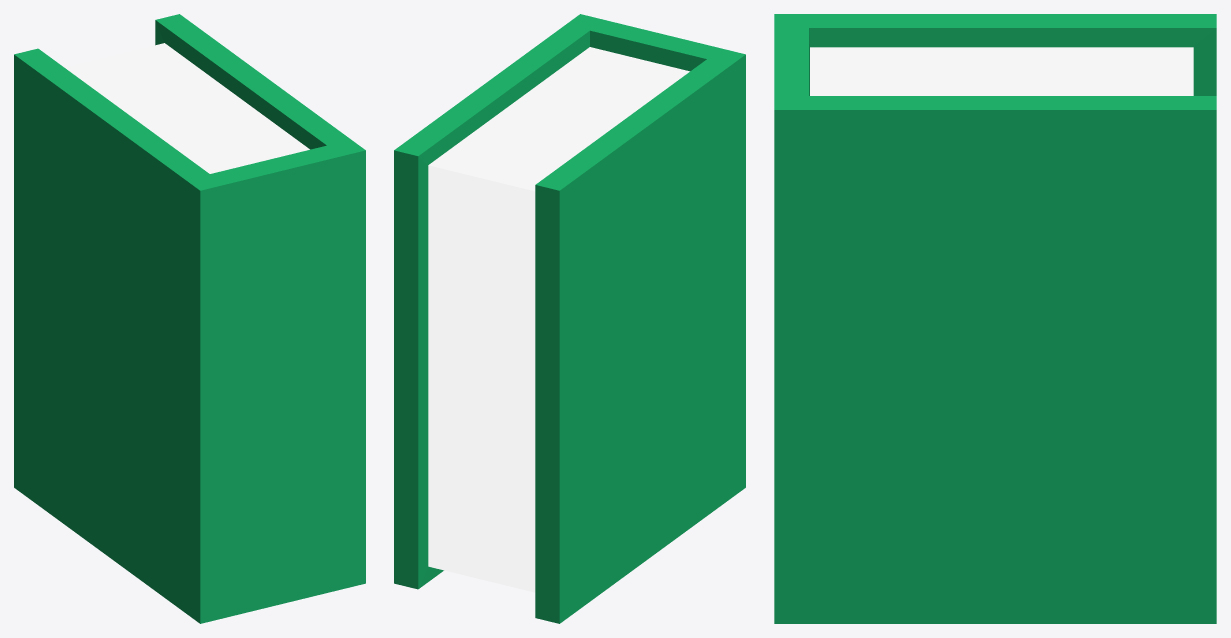
The model's file is Book.glb.
3 views of the same model, side by side, from view 1: azimuth 30°, elevation 25°; view 2: azimuth 150°, elevation 25°; view 3: azimuth 270°, elevation 25° (orthographic). The views are drawn at different scales.
Parts seen in each view (by area): view 1: Book; view 2: Book; view 3: Book.
Boxes of the visible parts, x1,y1,x2,y2 form: Book: (14,14,365,623); Book: (394,14,745,623); Book: (774,14,1216,623).
Bounding box in the file's own units: 1.45 × 3.61 × 2.82.
